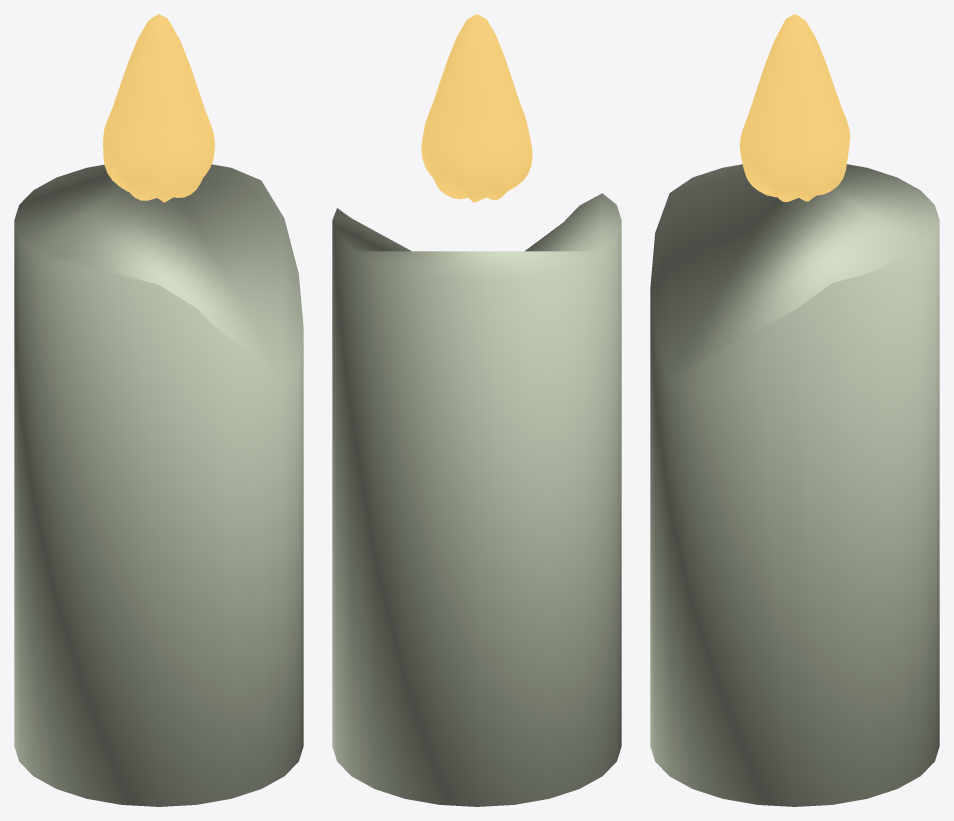
The model's file is candleISO.glb.
3 renders of one model, left to right at view 1: azimuth 30°, elevation 25°; view 2: azimuth 150°, elevation 25°; view 3: azimuth 270°, elevation 25°, orthographic.
Visible parts, largest first — view 1: CandleBase.056, CandleFlame.056; view 2: CandleBase.056, CandleFlame.056; view 3: CandleBase.056, CandleFlame.056.
Part boxes in pixels (x1,y1,x2,y2): CandleBase.056: [14, 164, 303, 806]; CandleFlame.056: [103, 14, 214, 202]; CandleBase.056: [332, 193, 621, 806]; CandleFlame.056: [421, 14, 532, 202]; CandleBase.056: [650, 164, 939, 806]; CandleFlame.056: [739, 14, 850, 202].
Size of the model in its own units: 0.2183 by 0.6085 by 0.2183.
